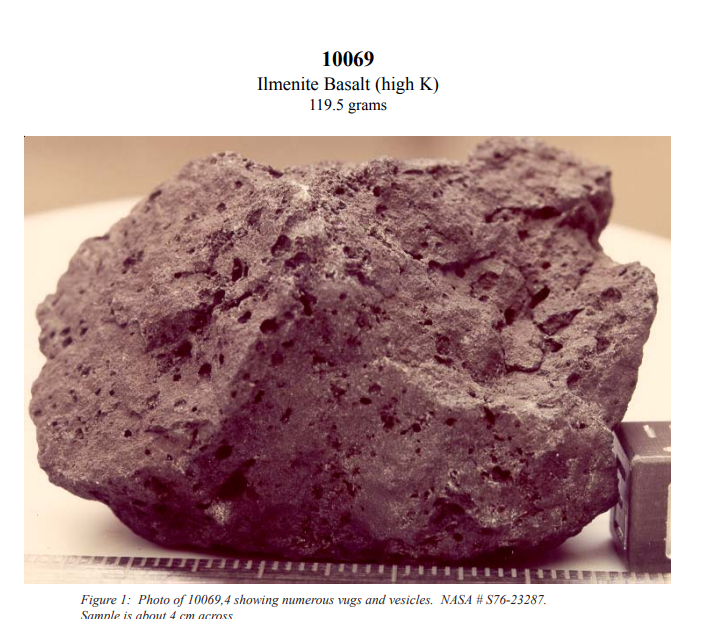Basalt: (25, 135, 620, 556), (115, 222, 556, 490)
